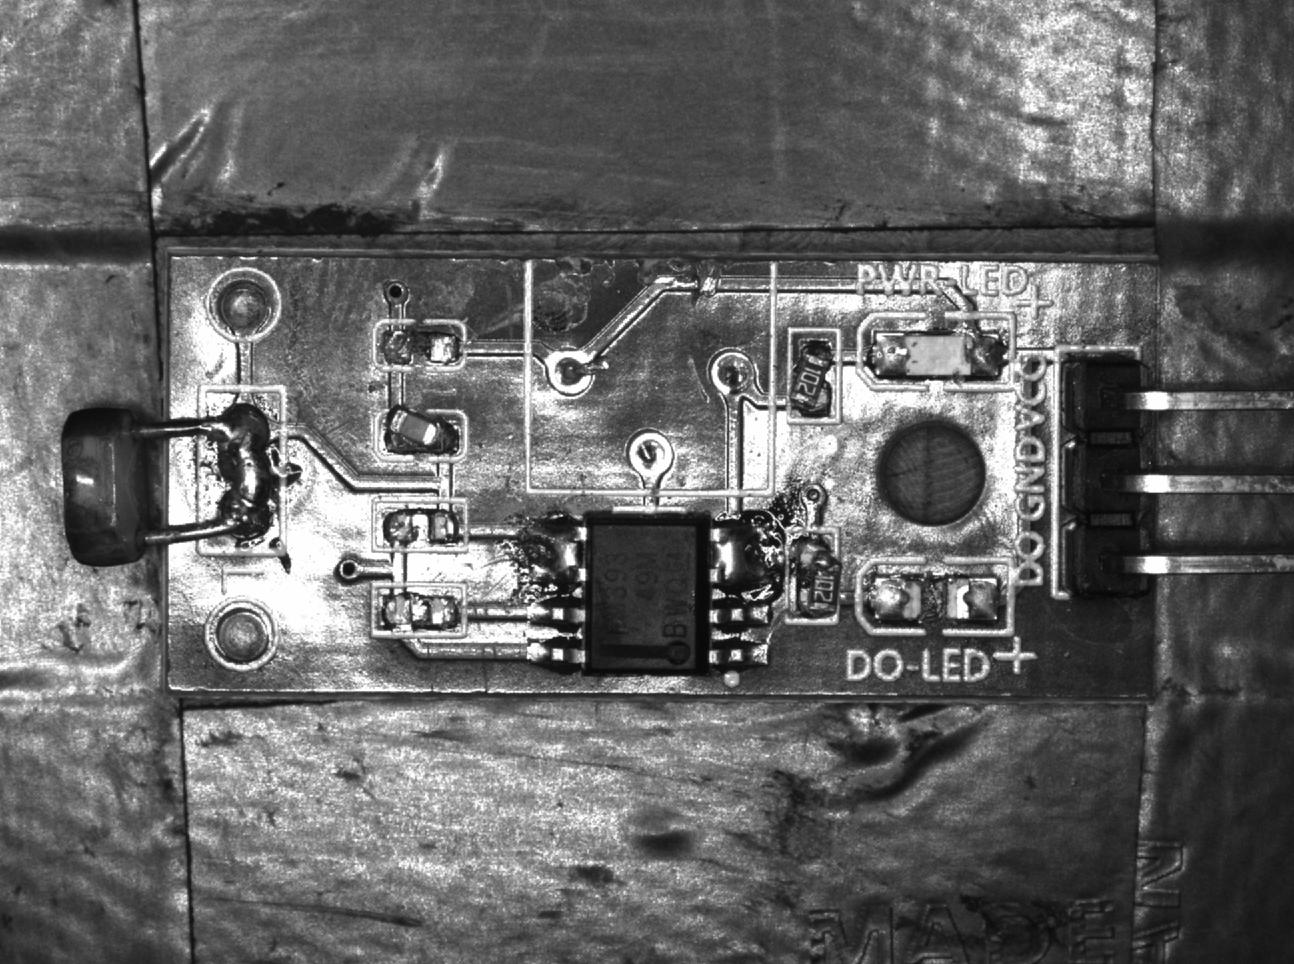bridge: (200, 385, 284, 551), (707, 513, 789, 599), (523, 515, 584, 588)
lifted: (786, 528, 844, 630), (367, 404, 468, 463), (788, 328, 838, 427)
miss: (371, 496, 471, 555), (373, 320, 466, 374), (374, 583, 463, 638)
